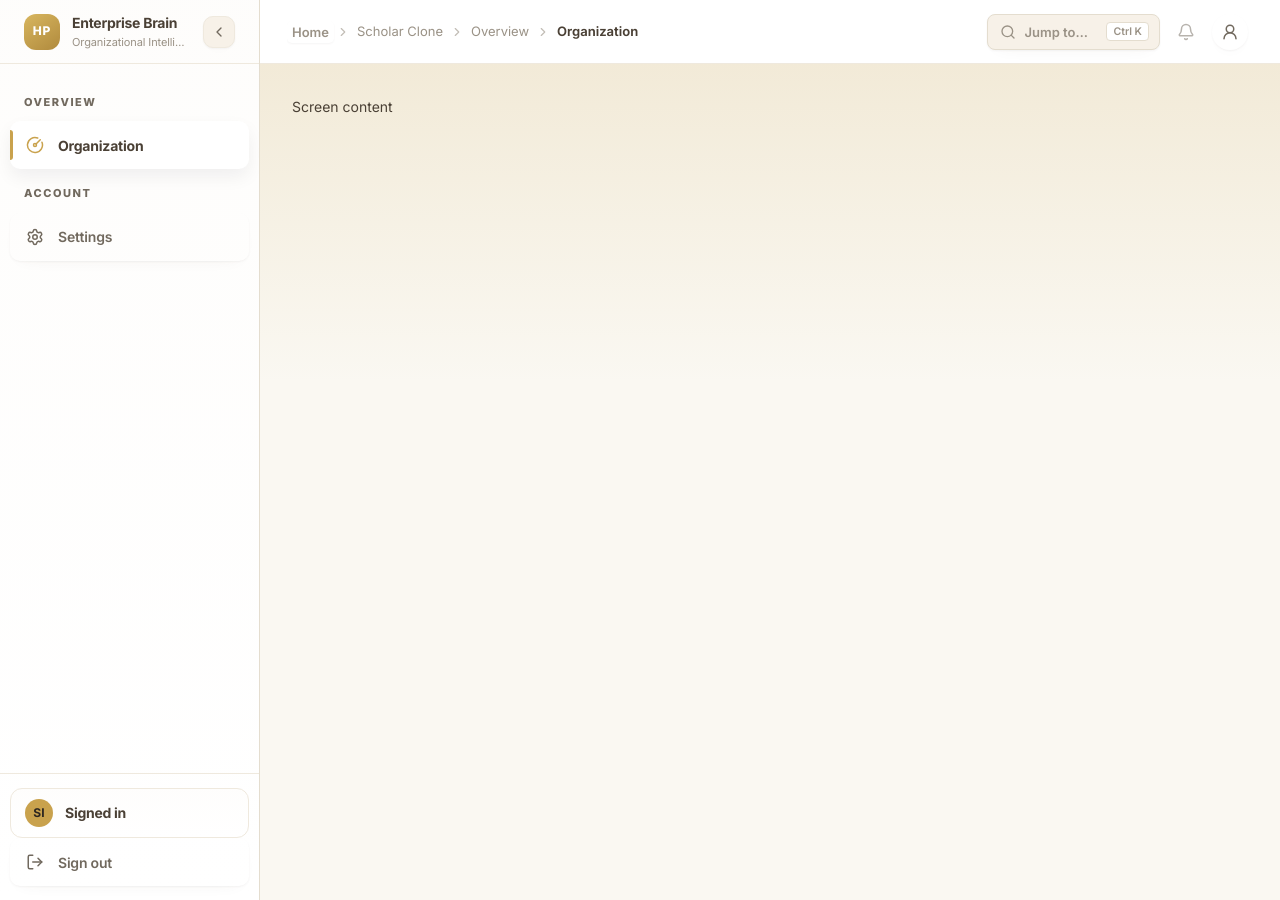
Test: user menu › shows no identity it does not have
Click the button named "Account menu" at (1230, 32), box [1212,14,1248,50]
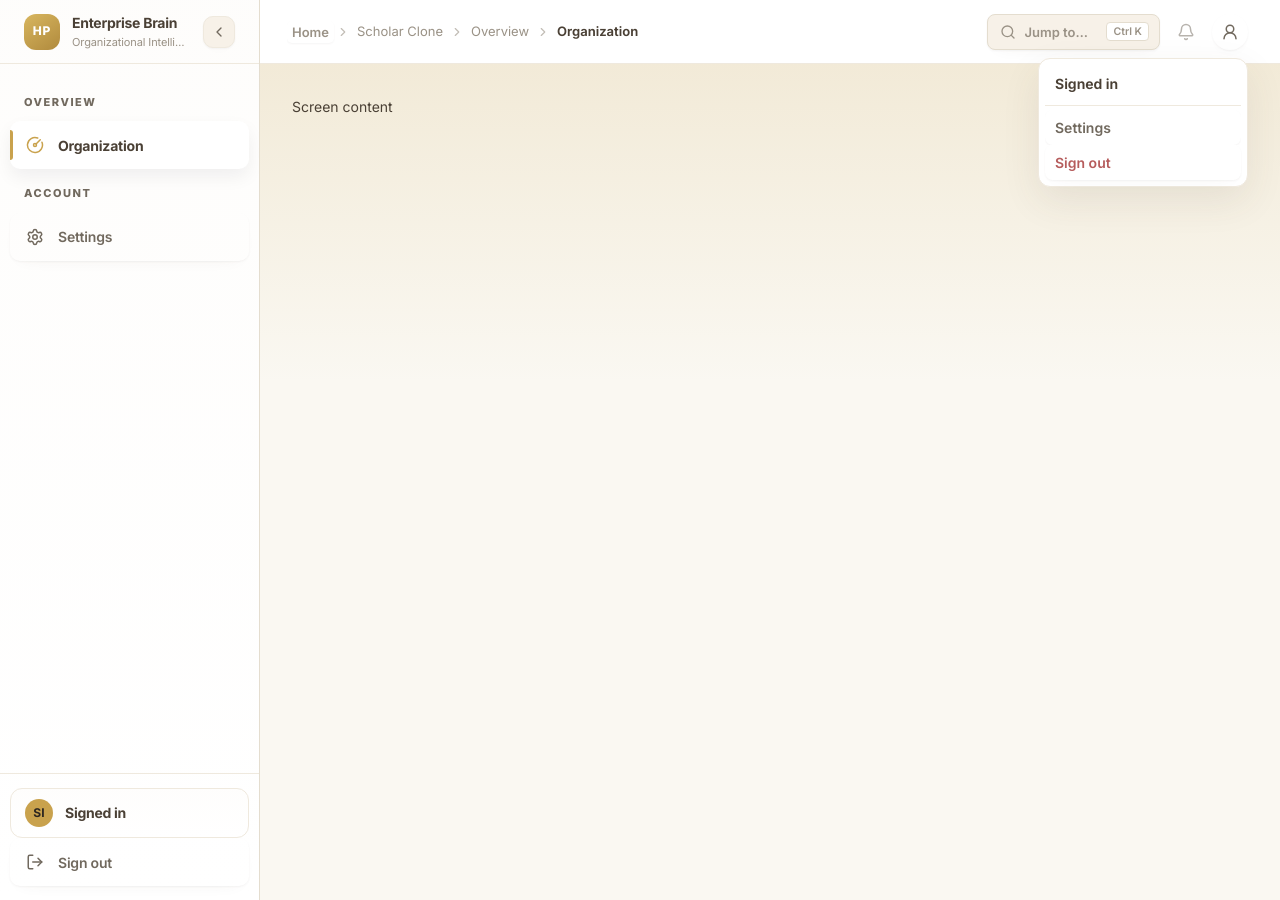
Check: the 1st text "Signed in" is shown, box [1055,74,1118,92]
